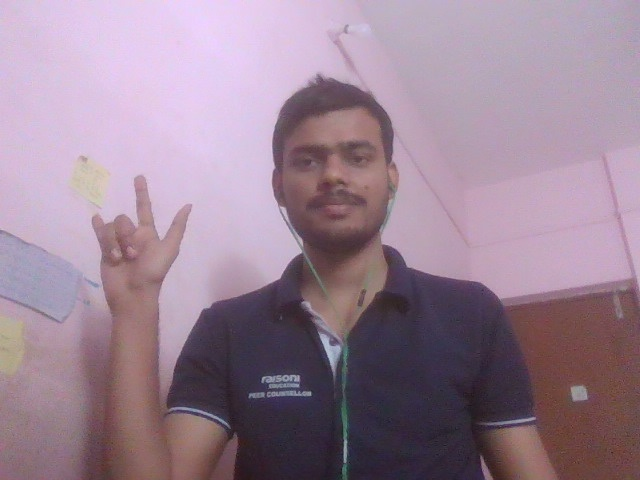ILoveYou: (47, 142, 299, 350)
